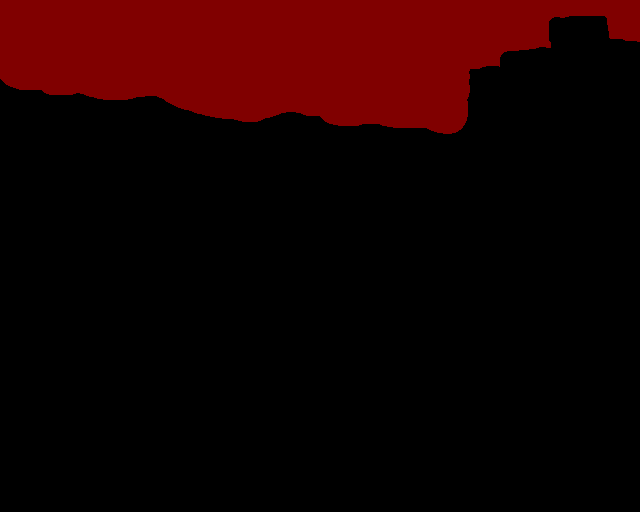Sky: (1, 1, 639, 134)
